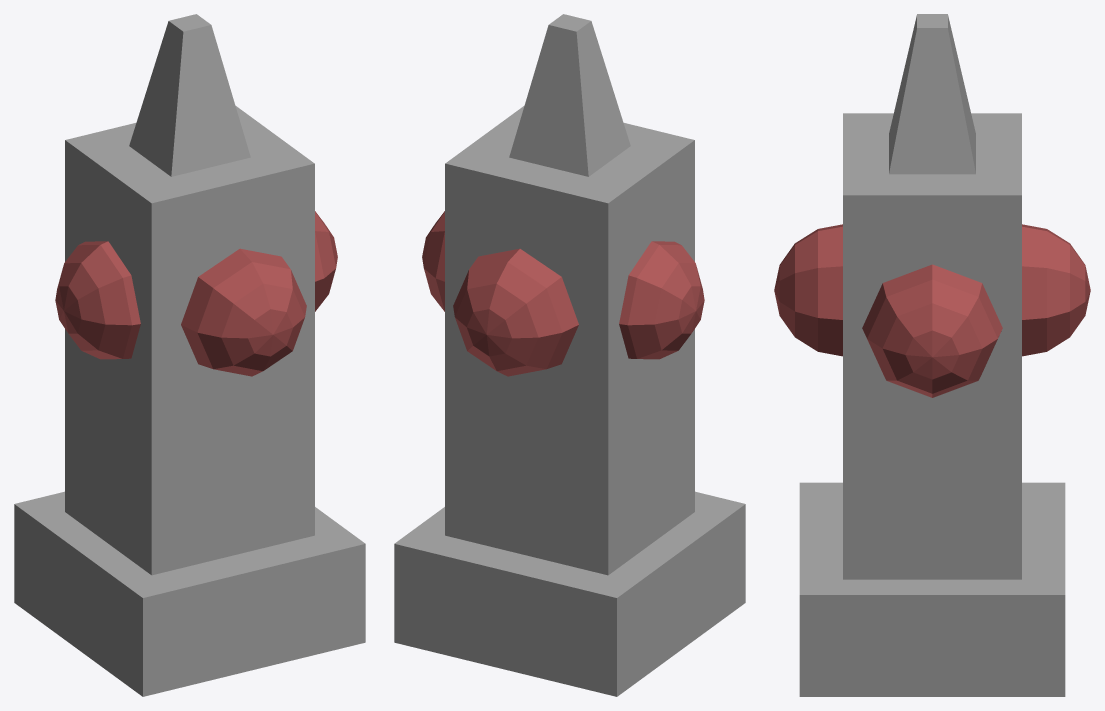
Rendered from Turret.fbx.
3 renders of one model, left to right at view 1: azimuth 30°, elevation 25°; view 2: azimuth 150°, elevation 25°; view 3: azimuth 270°, elevation 25°, orthographic. The views are drawn at different scales.
Visible parts, largest first — view 1: Mesh_Body, Eye2, Eye1; view 2: Mesh_Body, Eye2, Eye1; view 3: Mesh_Body, Eye2, Eye1.
Part boxes in pixels (left/top/right/bottom): Mesh_Body: left=14, top=14, right=365, bottom=696; Eye2: left=181, top=248, right=306, bottom=376; Eye1: left=55, top=211, right=337, bottom=359; Mesh_Body: left=394, top=14, right=745, bottom=696; Eye2: left=453, top=248, right=578, bottom=376; Eye1: left=422, top=211, right=704, bottom=359; Mesh_Body: left=799, top=14, right=1065, bottom=696; Eye2: left=774, top=224, right=1090, bottom=356; Eye1: left=862, top=264, right=1002, bottom=397.
Size of the model in its own units: 1.19 by 2.57 by 1.19.
